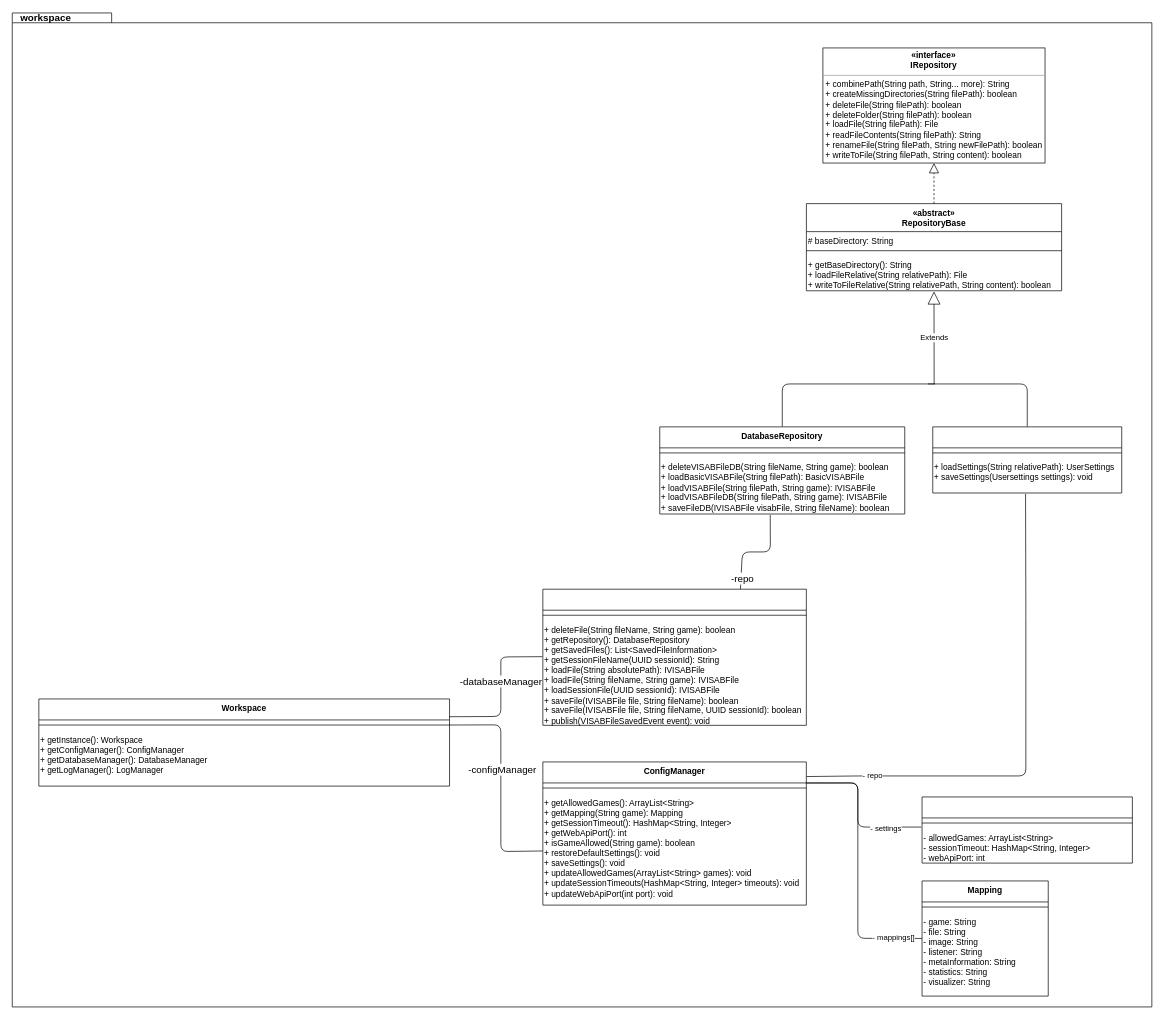
The diagram is 1164 pixels wide and 1019 high, and some of its shapes have lost their labels. Each missing label, with the box of its shape:
ConfigRepository: (932, 426, 1122, 493)
DatabaseManager: (542, 588, 806, 725)
UserSettings: (921, 796, 1132, 863)
